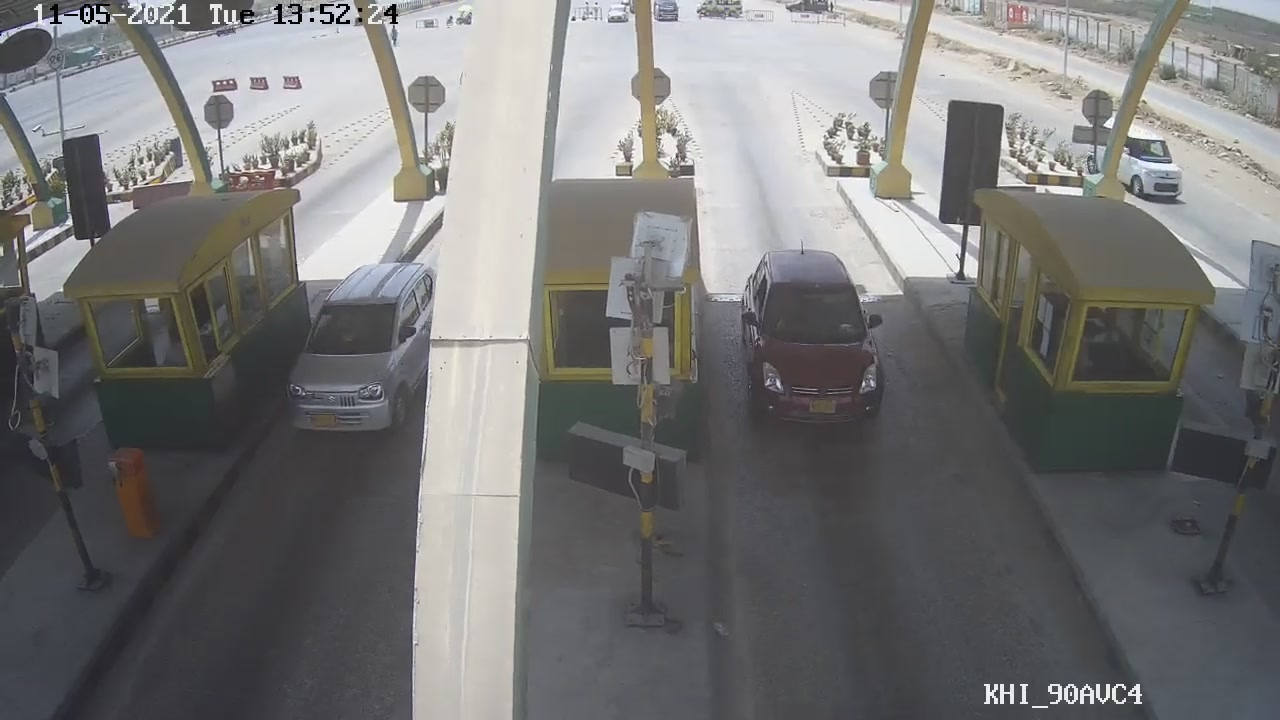F1: (736, 240, 901, 437)
